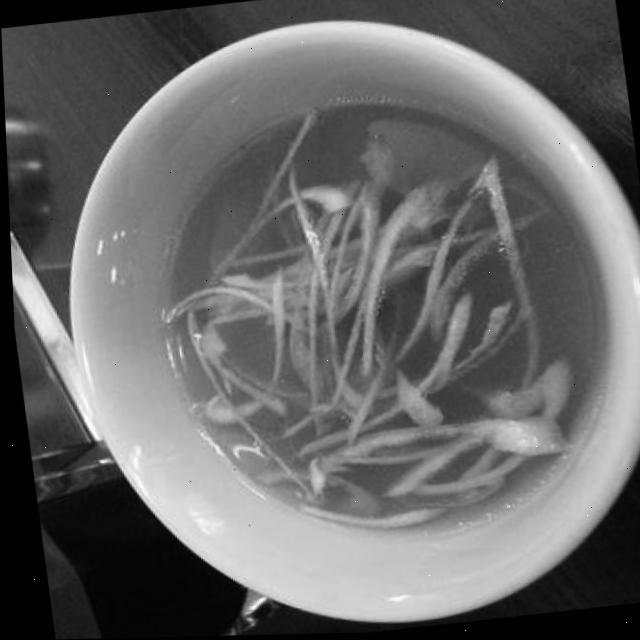汤锅炖物: (28, 0, 640, 640)
